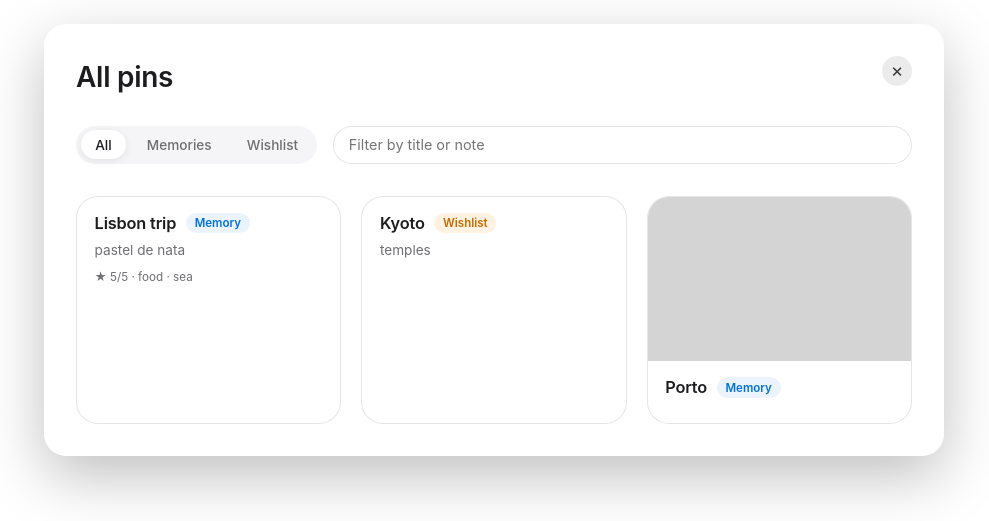
Test: AllPinsModal › combines kind and text filters, with a context-specific empty message
This screenshot has width=989, height=521.
Expected: the heading "Kyoto" is shown, left=380, top=213, right=425, bottom=234
Click the button "Wishlist" at (272, 145), box left=232, top=130, right=312, bottom=159
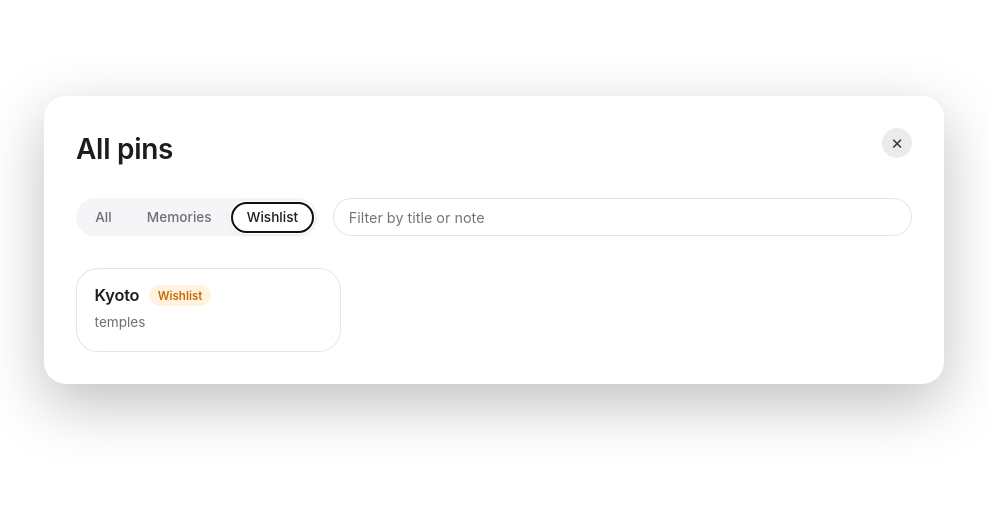
Type "lisbon" into the field with placeholder "Filter by title or note" at (623, 217), box left=333, top=198, right=912, bottom=236
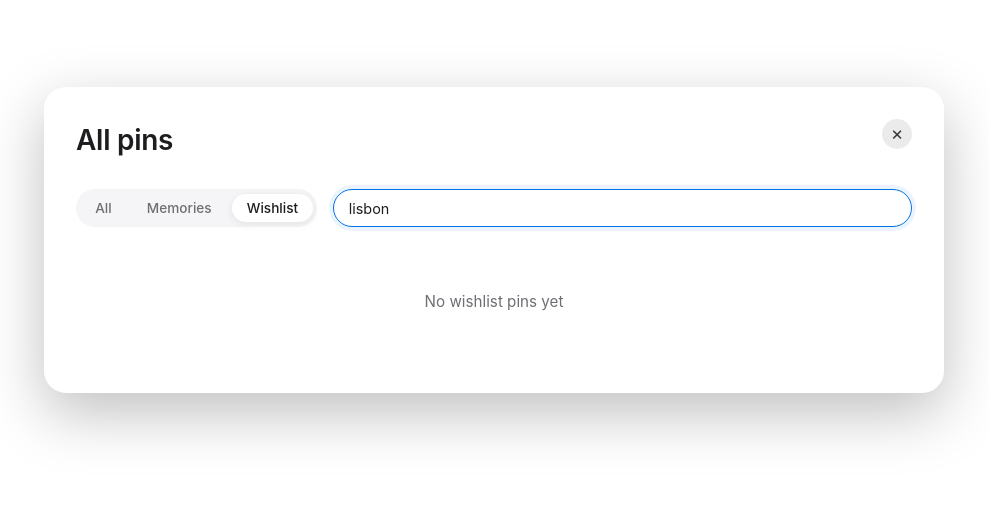
Now the text "No wishlist pins yet" is shown, box left=425, top=292, right=563, bottom=311
